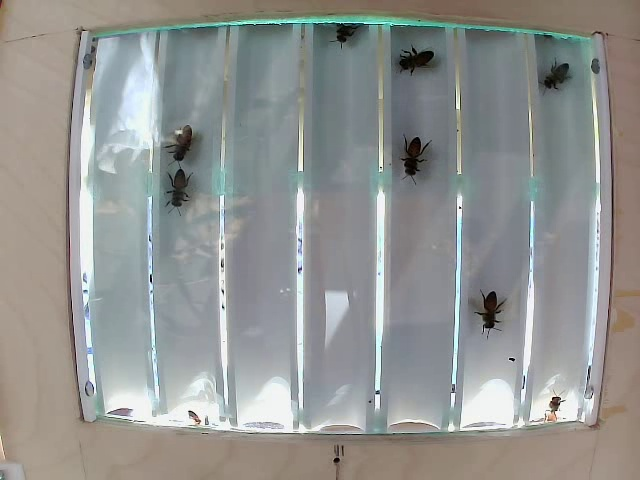bee: (473, 279, 511, 337), (151, 161, 199, 201), (395, 142, 435, 183), (533, 53, 576, 88), (164, 122, 203, 160), (400, 38, 432, 77)
